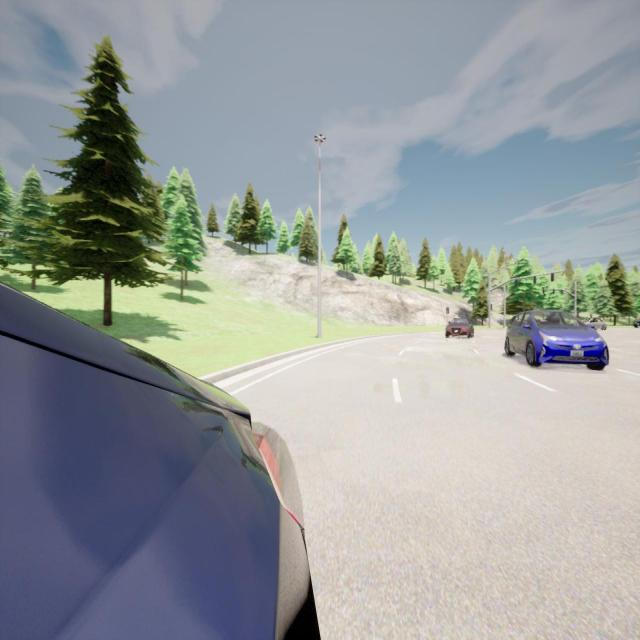Traffic_Signs: (446, 308, 449, 314)
Vehicle: (1, 281, 320, 640), (504, 310, 608, 369), (444, 316, 474, 338), (587, 315, 607, 330), (632, 319, 640, 327)
traffic_light: (552, 273, 554, 281), (516, 279, 518, 286), (534, 277, 536, 283), (491, 304, 492, 310)
